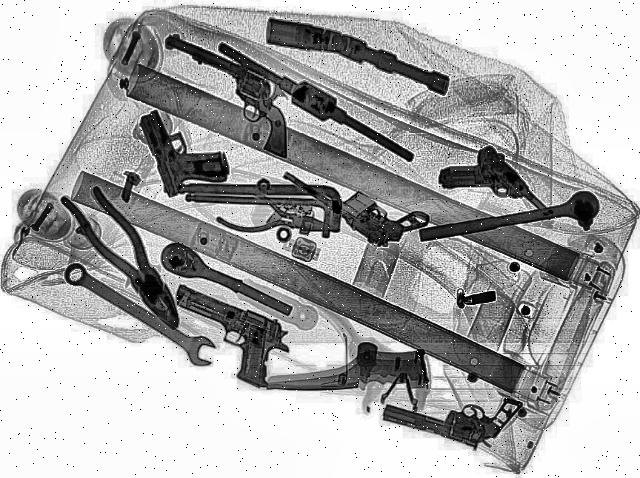Gun: (120, 33, 334, 157), (133, 284, 310, 391), (276, 143, 434, 253), (376, 370, 524, 452), (427, 144, 553, 234), (135, 102, 233, 196)
Pliers: (57, 184, 199, 334), (208, 182, 346, 252)
Wrench: (52, 259, 228, 369)
